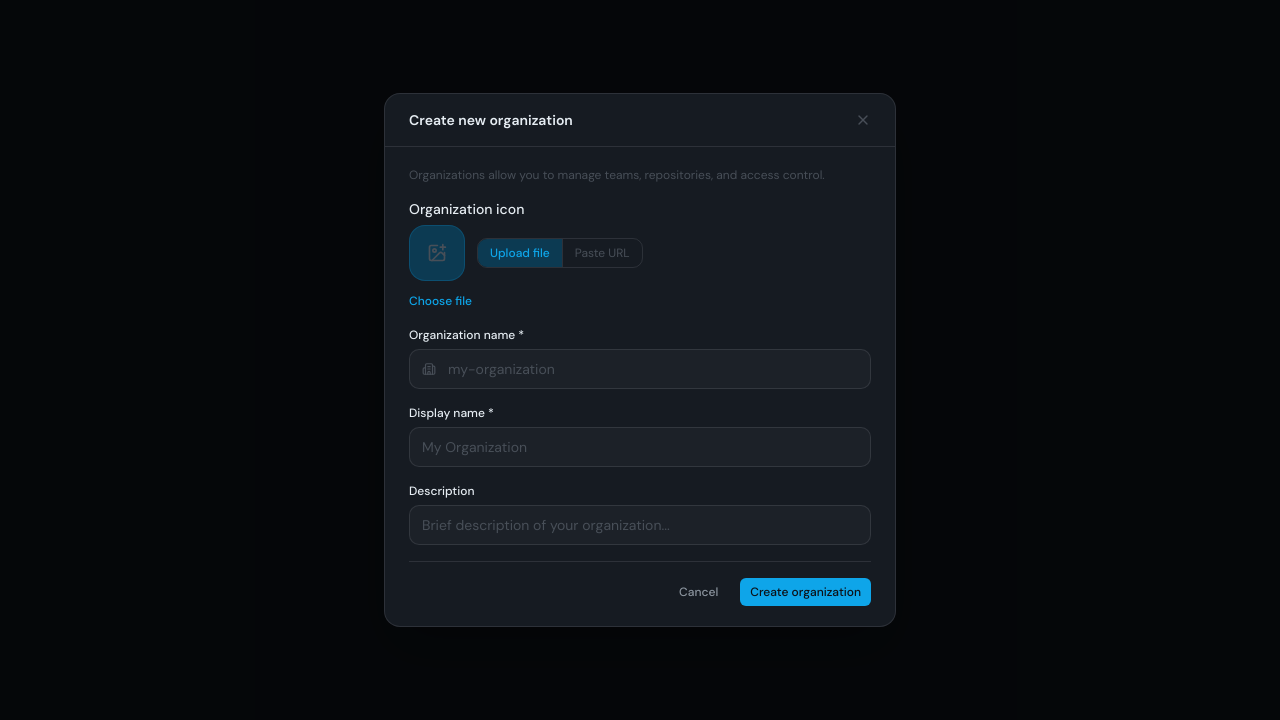
Test: CreateOrganizationModal › form validation: name › shows error when name is empty
The image size is (1280, 720).
In the field labelled "Display name *": point(640, 447) [410, 428, 870, 466], type "My Org"
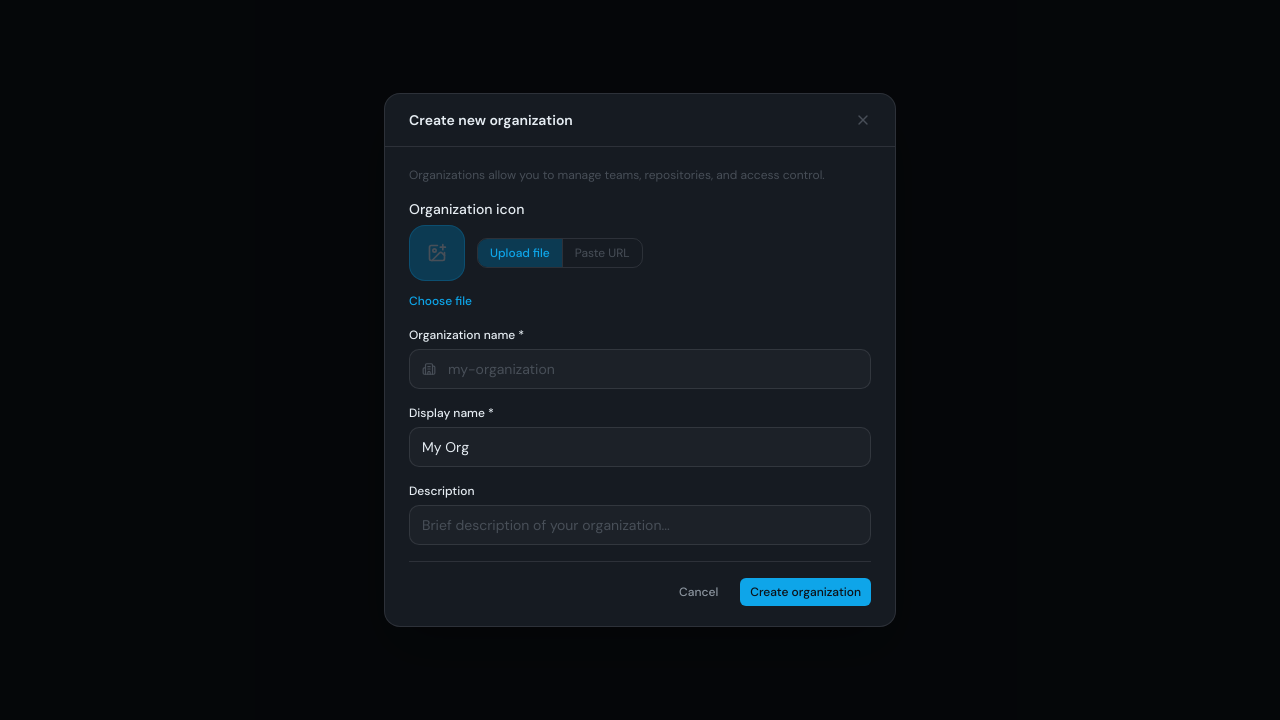
Click the button "Create organization": point(806, 592) [740, 578, 871, 606]
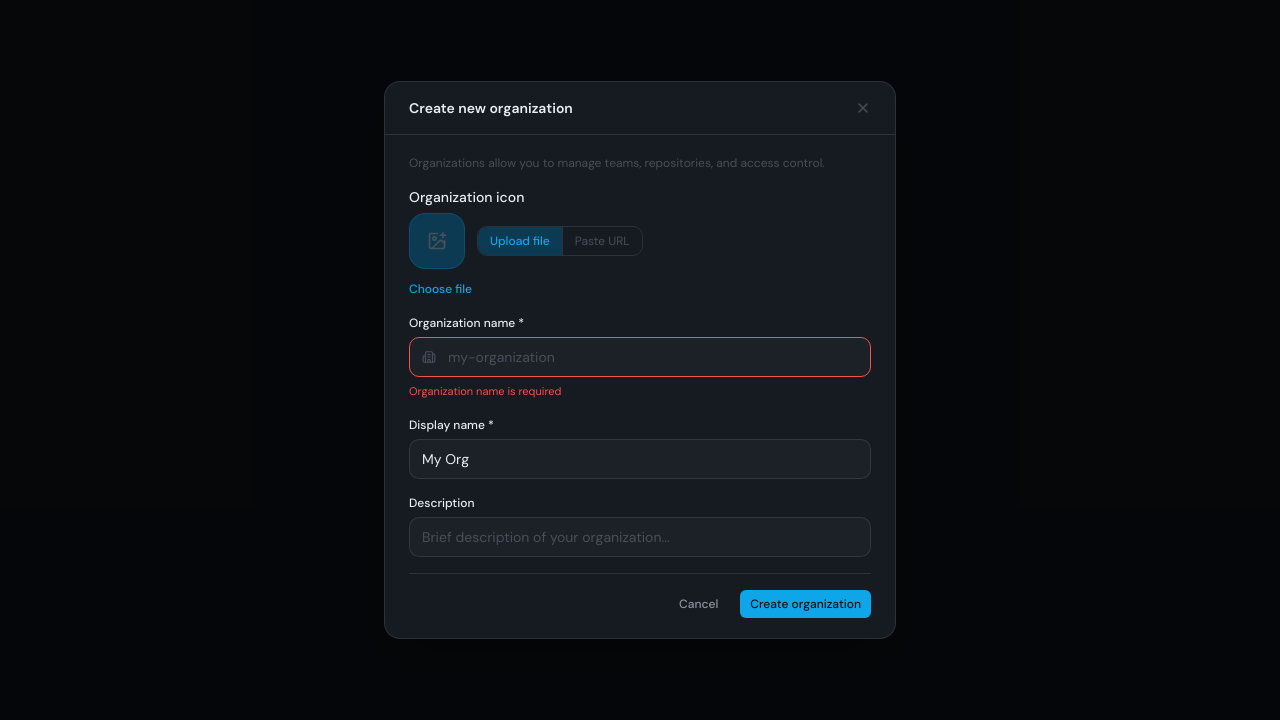
Expected: the text "Organization name is required" is shown, [409, 384, 561, 398]
